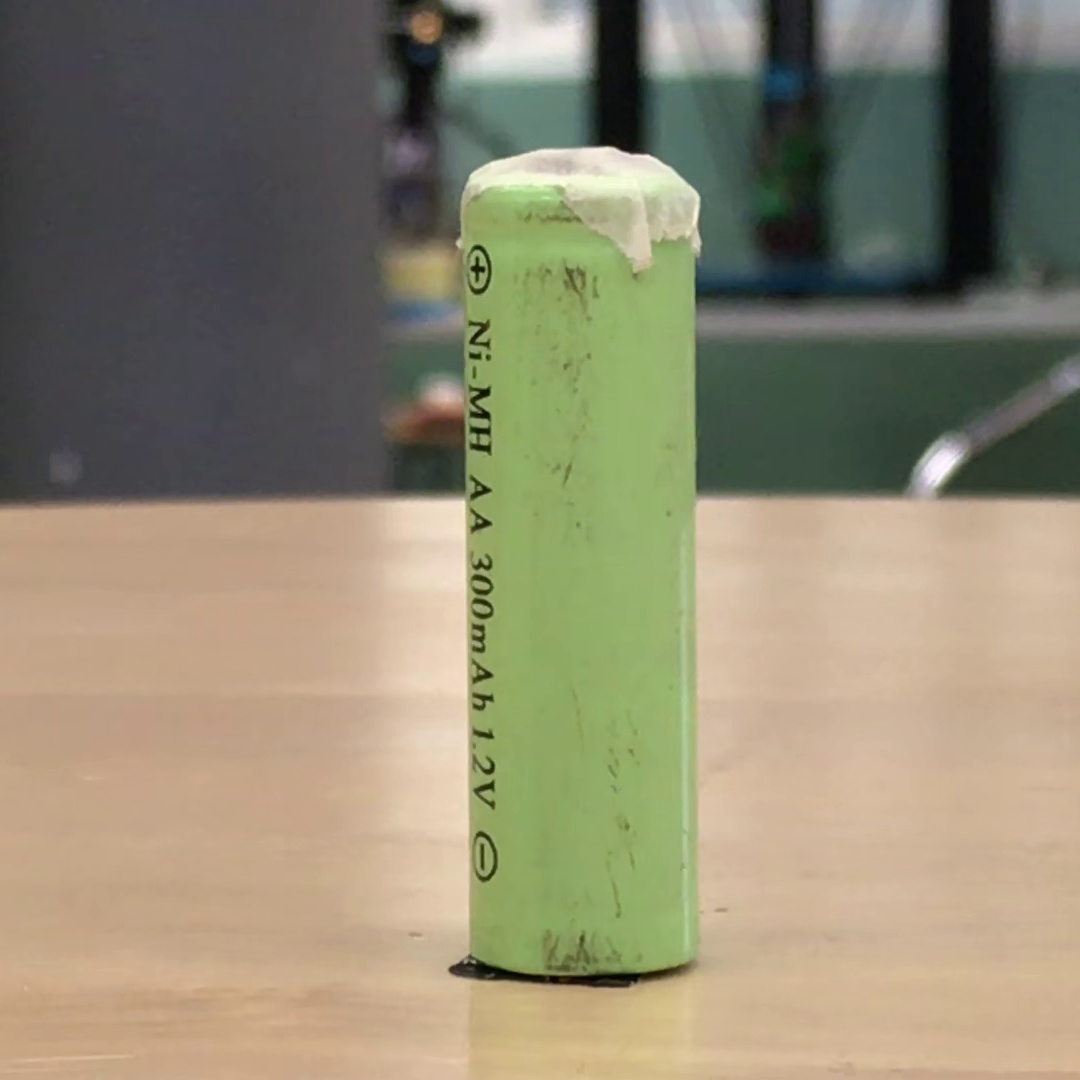keyword: (446, 286, 502, 465), (463, 718, 505, 819)
